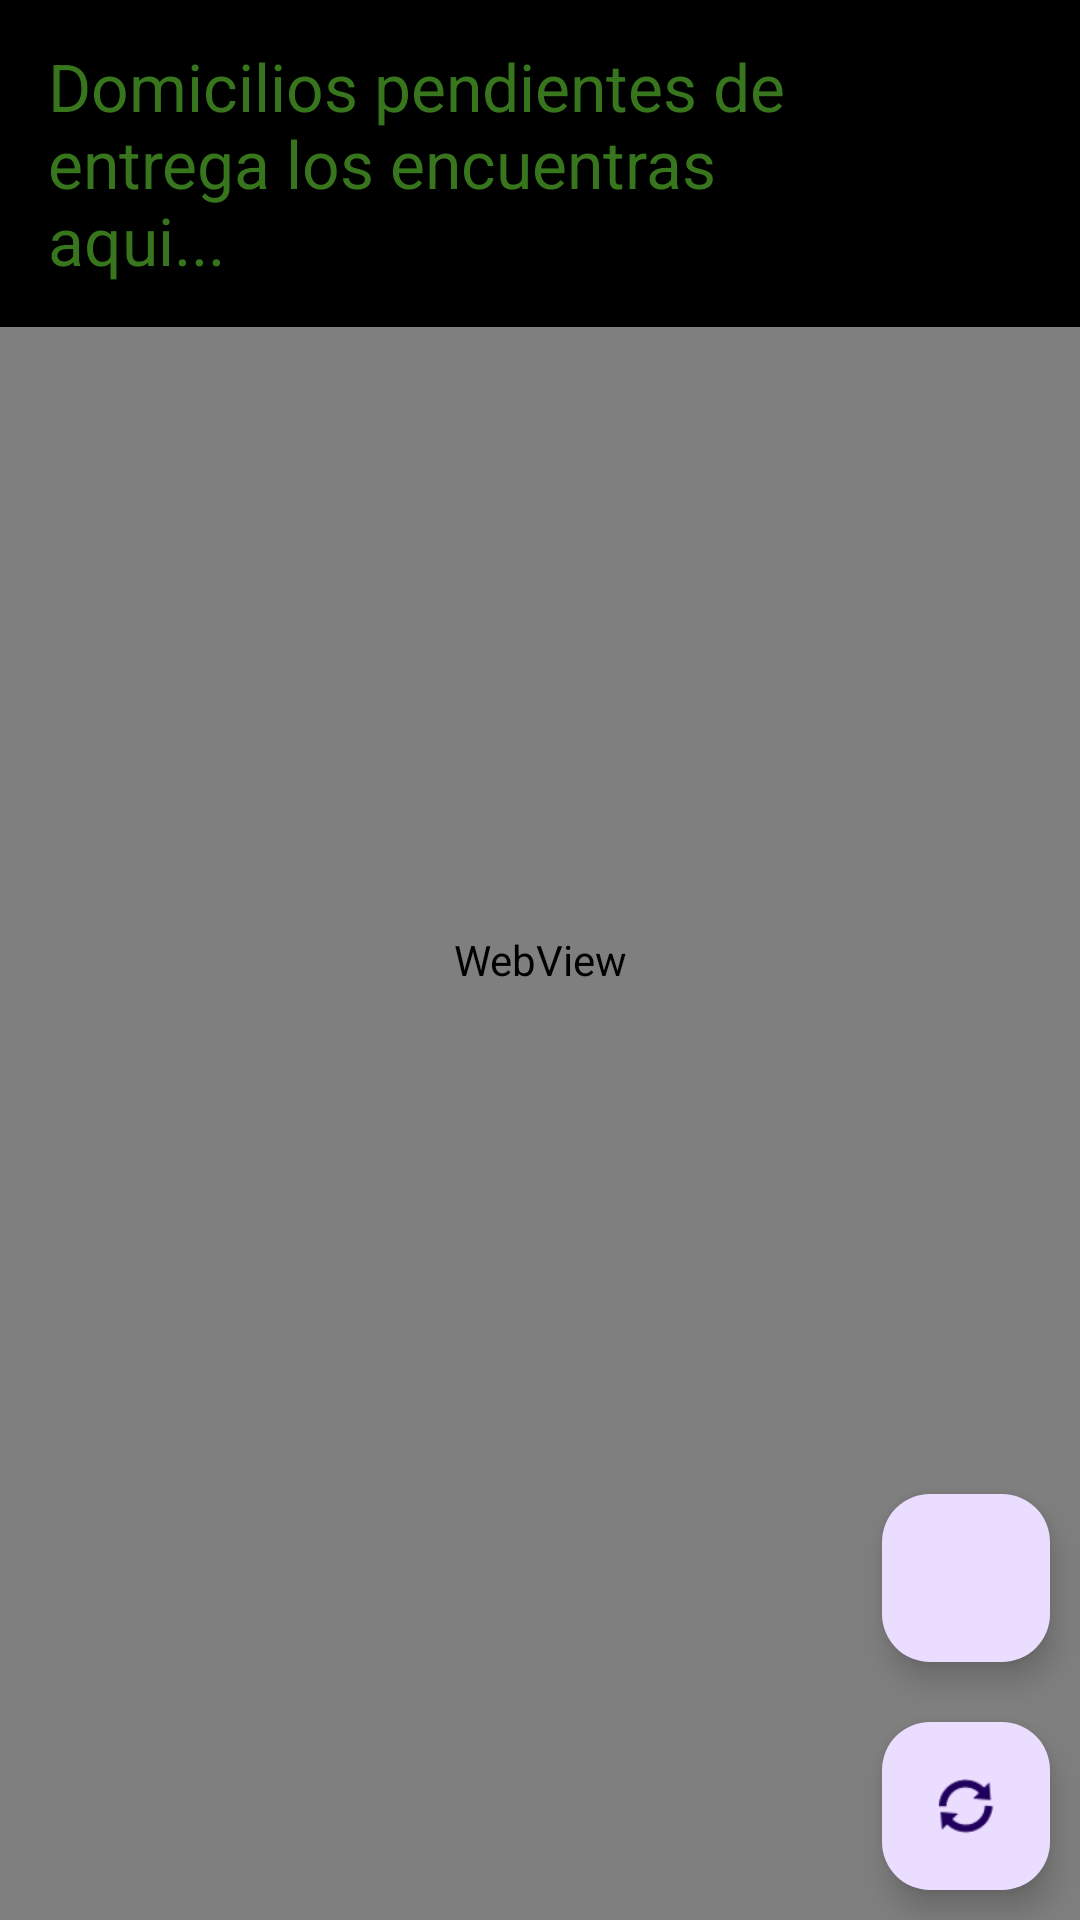

Icons on this 1080px x 1920px Android screen, each with the point to tap as point (x, y):
popup sync: point (966, 1806)
